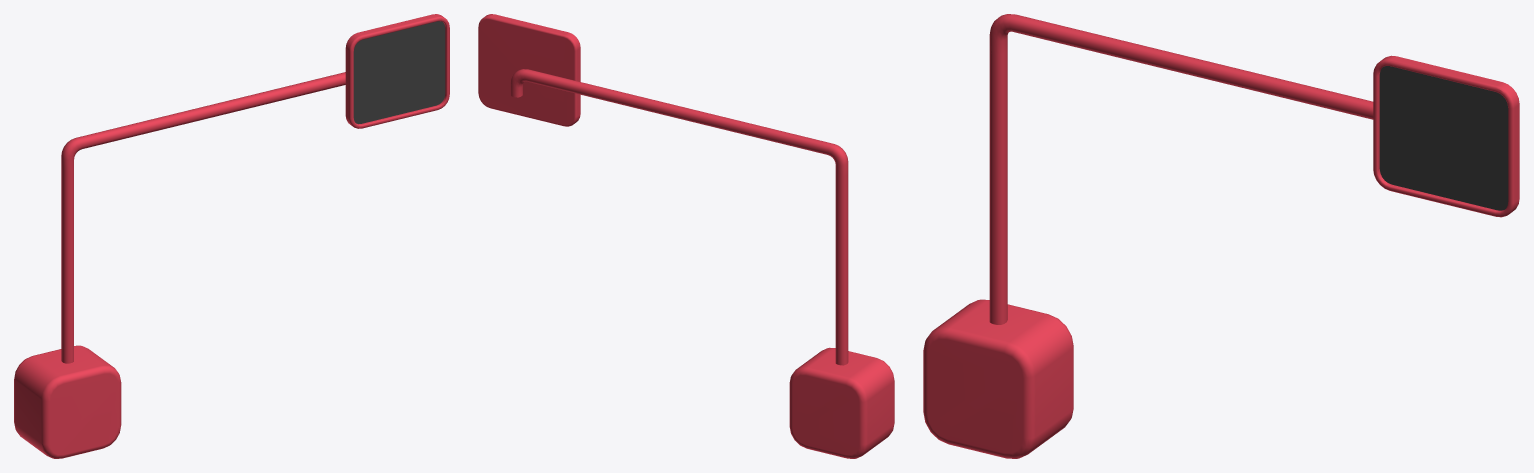
Rendered from OBS_Boxing.fbx.
3 views of the same model, side by side, from view 1: azimuth 30°, elevation 25°; view 2: azimuth 150°, elevation 25°; view 3: azimuth 330°, elevation 25° (orthographic). The views are drawn at different scales.
Parts seen in each view (by area): view 1: OBS_Boxing_Base, OBS_Saw_Screen.001, OBS_Saw_Frame_Horizonal.001, OBS_Saw_Frame_Vertical_R.001, OBS_Saw_Frame.001, OBS_Saw_Frame_Corner_R.001; view 2: OBS_Boxing_Base, OBS_Saw_Frame.001, OBS_Saw_Frame_Horizonal.001, OBS_Saw_Frame_Vertical_R.001, OBS_Saw_Frame_Corner_R.001, OBS_Saw_Frame_Corner_L.001; view 3: OBS_Boxing_Base, OBS_Saw_Screen.001, OBS_Saw_Frame_Horizonal.001, OBS_Saw_Frame_Vertical_R.001, OBS_Saw_Frame.001, OBS_Saw_Frame_Corner_R.001.
Part boxes in pixels (bbox=[...]): OBS_Boxing_Base: bbox=[14, 345, 121, 458]; OBS_Saw_Screen.001: bbox=[353, 21, 445, 124]; OBS_Saw_Frame_Horizonal.001: bbox=[86, 72, 345, 147]; OBS_Saw_Frame_Vertical_R.001: bbox=[61, 169, 73, 363]; OBS_Saw_Frame.001: bbox=[345, 14, 449, 128]; OBS_Saw_Frame_Corner_R.001: bbox=[61, 135, 90, 171]; OBS_Boxing_Base: bbox=[789, 347, 894, 458]; OBS_Saw_Frame.001: bbox=[478, 14, 580, 126]; OBS_Saw_Frame_Horizonal.001: bbox=[533, 71, 823, 152]; OBS_Saw_Frame_Vertical_R.001: bbox=[835, 174, 848, 365]; OBS_Saw_Frame_Corner_R.001: bbox=[819, 141, 848, 176]; OBS_Saw_Frame_Corner_L.001: bbox=[510, 69, 536, 97]; OBS_Boxing_Base: bbox=[923, 299, 1073, 458]; OBS_Saw_Screen.001: bbox=[1379, 66, 1508, 210]; OBS_Saw_Frame_Horizonal.001: bbox=[1022, 18, 1373, 119]; OBS_Saw_Frame_Vertical_R.001: bbox=[989, 50, 1007, 324]; OBS_Saw_Frame.001: bbox=[1373, 55, 1519, 217]; OBS_Saw_Frame_Corner_R.001: bbox=[989, 14, 1029, 54].
Bounding box in the file's own units: 1104 × 877 × 152.
